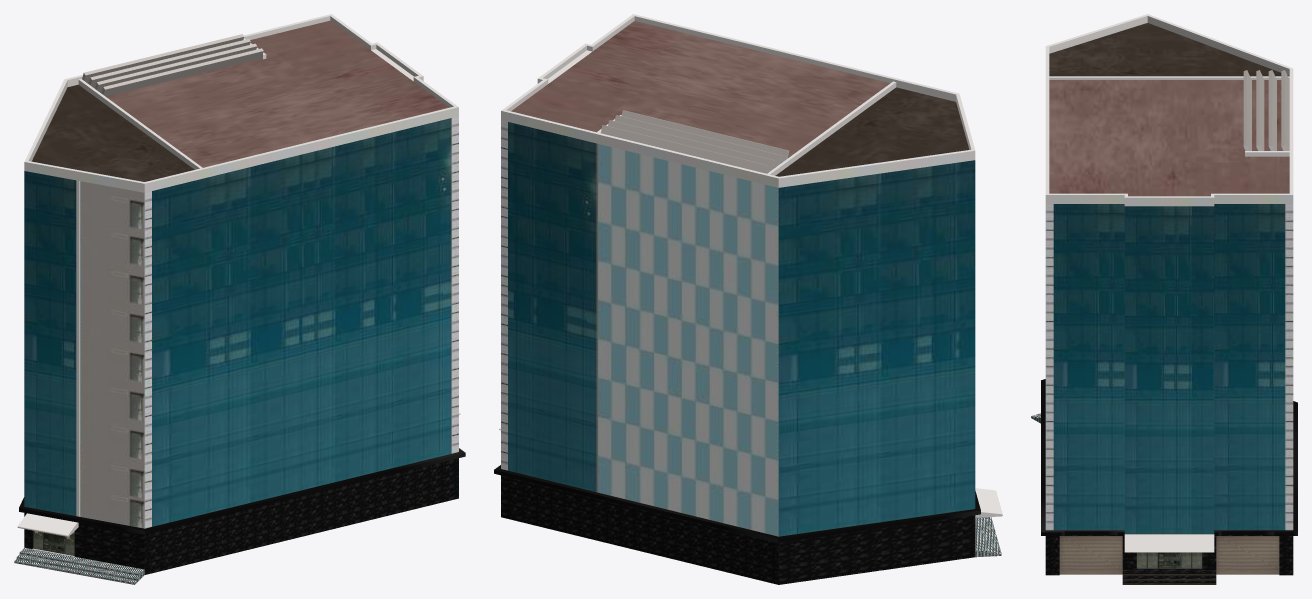
3 views of the same model, side by side, from view 1: azimuth 30°, elevation 25°; view 2: azimuth 150°, elevation 25°; view 3: azimuth 270°, elevation 25° (orthographic). The views are drawn at different scales.
Visible parts, largest first — view 1: HN1066___Toa_nha_so_5_Dien_Bien_Phu; view 2: HN1066___Toa_nha_so_5_Dien_Bien_Phu; view 3: HN1066___Toa_nha_so_5_Dien_Bien_Phu.
Boxes of the visible parts, x1,y1,x2,y2 form: HN1066___Toa_nha_so_5_Dien_Bien_Phu: [14, 14, 465, 584]; HN1066___Toa_nha_so_5_Dien_Bien_Phu: [494, 14, 1002, 584]; HN1066___Toa_nha_so_5_Dien_Bien_Phu: [1031, 14, 1297, 584].
Size of the model in its own units: 49.62 by 42.6 by 26.7.
1 material, 1 textured.
